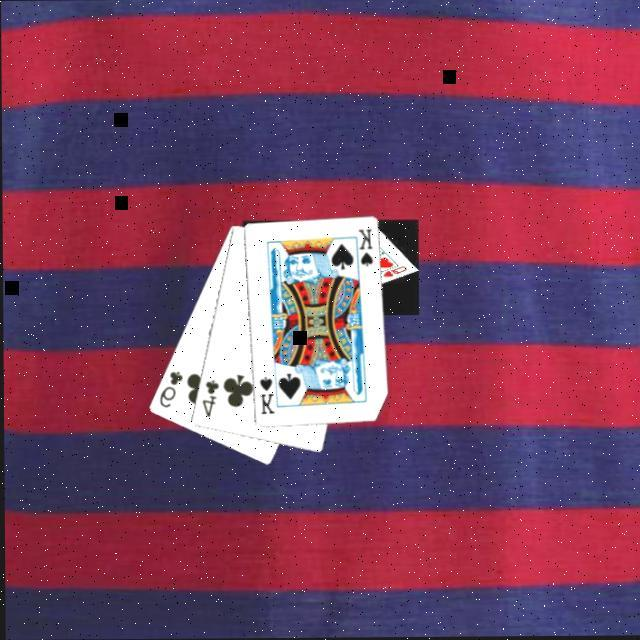4C: (198, 374, 222, 418)
6C: (156, 366, 186, 410)
KS: (352, 225, 376, 273), (256, 372, 278, 416)
